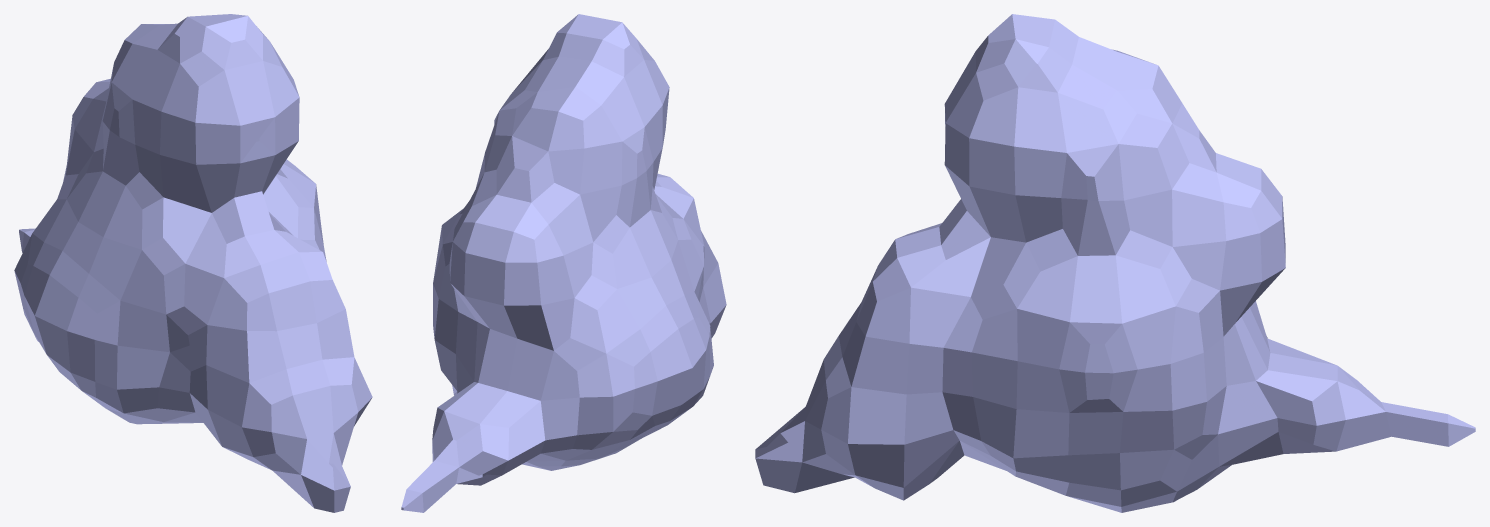
The model's file is st1_cloud4.fbx.
3 renders of one model, left to right at view 1: azimuth 30°, elevation 25°; view 2: azimuth 150°, elevation 25°; view 3: azimuth 270°, elevation 25°, orthographic. The views are drawn at different scales.
Visible parts, largest first — view 1: Sphere_003; view 2: Sphere_003; view 3: Sphere_003.
Part boxes in pixels (bbox=[...]): Sphere_003: bbox=[14, 14, 372, 512]; Sphere_003: bbox=[401, 14, 726, 512]; Sphere_003: bbox=[755, 14, 1475, 512].
Size of the model in its own units: 954 by 1446 by 1997.
